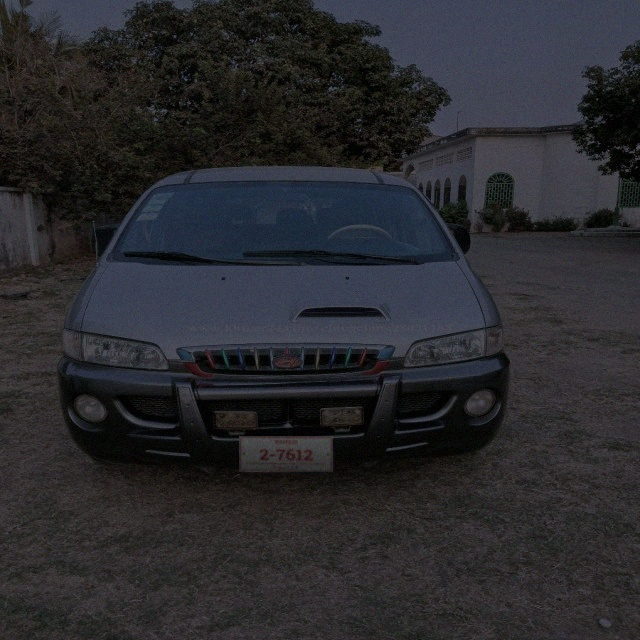Plate Number: (240, 436, 334, 473)
